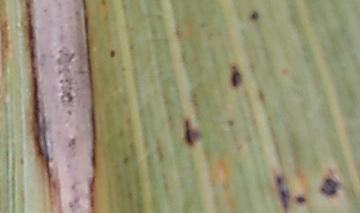tarspot: (274, 175, 292, 213), (183, 119, 202, 147), (321, 177, 340, 195), (231, 65, 242, 88), (226, 117, 235, 129), (250, 11, 259, 21), (121, 156, 130, 166), (295, 196, 305, 204), (109, 50, 117, 58)
